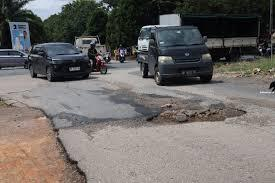Pothole: (0, 101, 90, 183), (131, 102, 253, 125)
